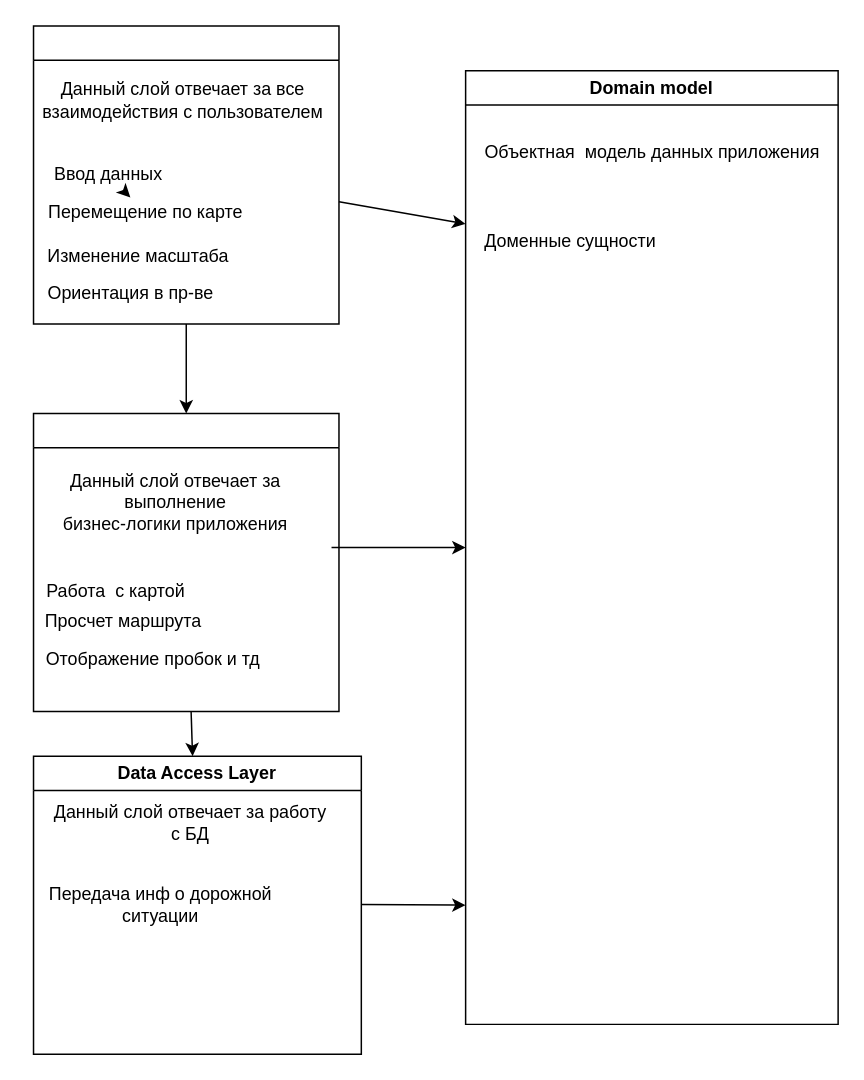
This 864x1080 diagram has some shape labels left out. Each missing label, with the box of its shape:
Service Layer: (32, 412, 339, 711)
UI Layer: (32, 25, 339, 324)
